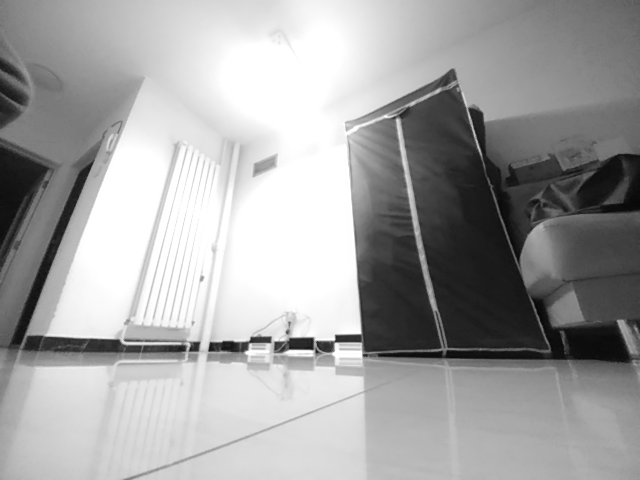Ruby: (334, 332, 363, 360), (245, 336, 274, 357)
TanosV: (285, 337, 314, 359)
